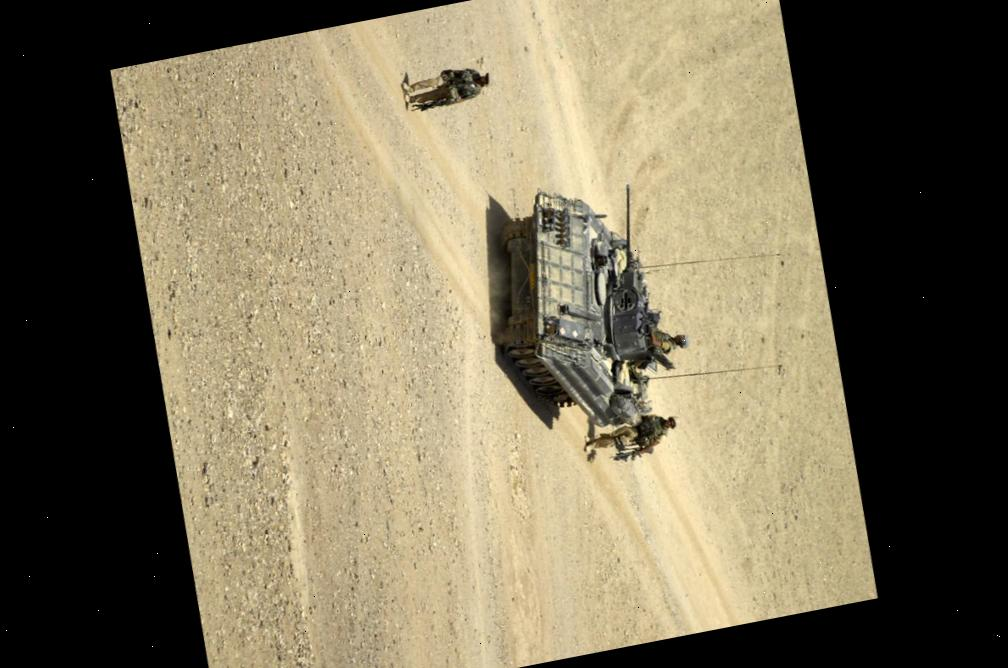tank: (462, 168, 686, 449)
